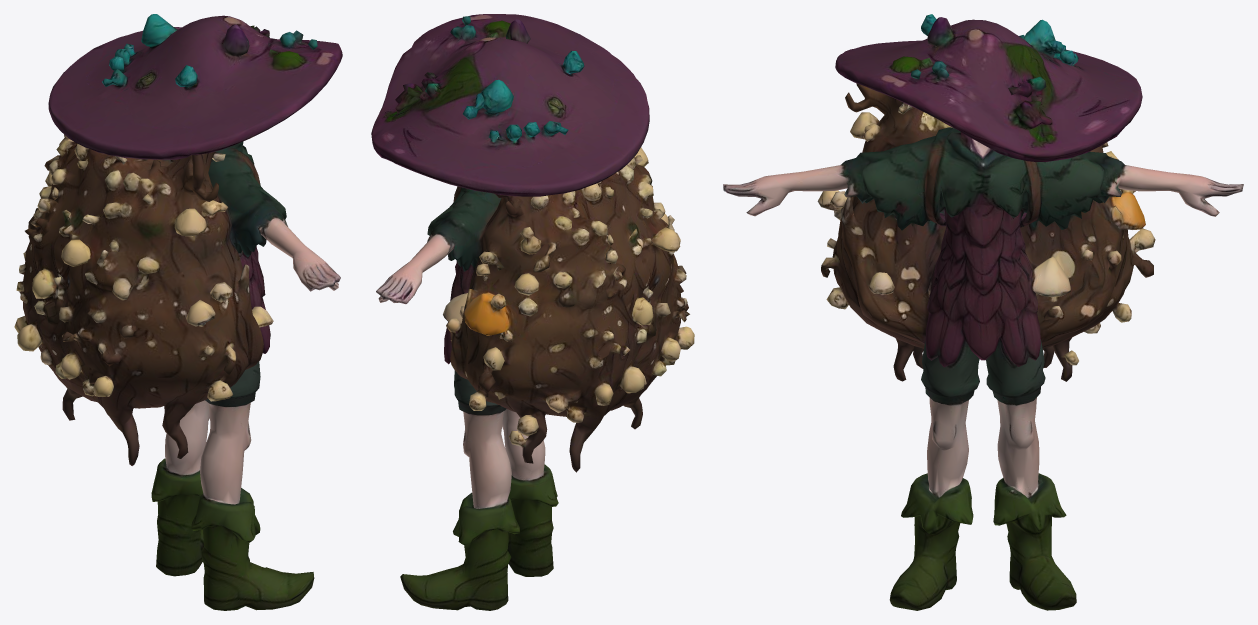
File: n2_courier.00319ed8.glb
The picture shows the model from 3 angles, left to right: view 1: azimuth 30°, elevation 25°; view 2: azimuth 150°, elevation 25°; view 3: azimuth 270°, elevation 25°; orthographic projection. The views are drawn at different scales.
Parts seen in each view (by area): view 1: tripo_node_c28f7196-1e32-4e85-b6bf-da8fecbb66b4; view 2: tripo_node_c28f7196-1e32-4e85-b6bf-da8fecbb66b4; view 3: tripo_node_c28f7196-1e32-4e85-b6bf-da8fecbb66b4.
Boxes of the visible parts, x1,y1,x2,y2 form: tripo_node_c28f7196-1e32-4e85-b6bf-da8fecbb66b4: (14, 14, 342, 610); tripo_node_c28f7196-1e32-4e85-b6bf-da8fecbb66b4: (371, 14, 694, 610); tripo_node_c28f7196-1e32-4e85-b6bf-da8fecbb66b4: (723, 14, 1243, 610).
Bounding box in the file's own units: 0.5176 × 1 × 0.8214.
1 material, 1 textured.
